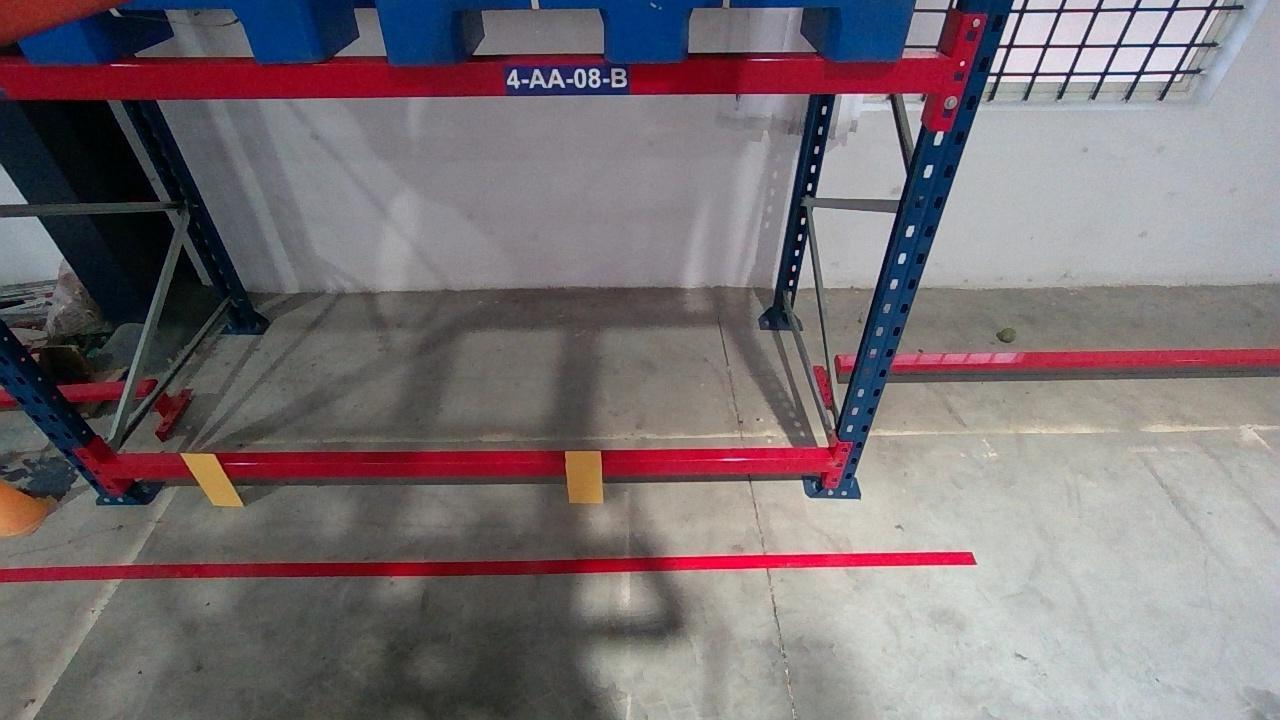h_rack: (3, 56, 952, 98), (96, 456, 832, 479)
orange_strip: (177, 454, 243, 506), (563, 451, 603, 502)
red_line: (0, 552, 979, 579)
small_pallet: (380, 0, 916, 62), (0, 0, 321, 64)
